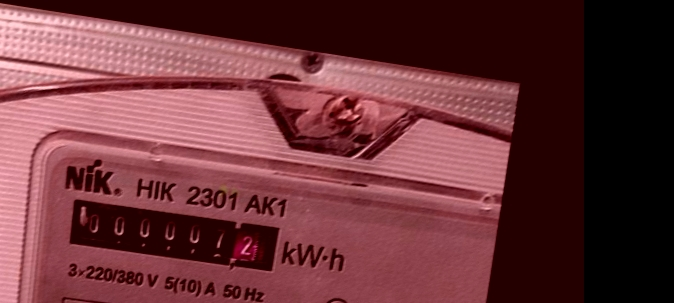0: (85, 211, 103, 237), (162, 219, 179, 244), (137, 217, 154, 241), (187, 222, 203, 247), (111, 215, 128, 238)
2: (239, 234, 255, 259)
7: (212, 226, 228, 252)
screen: (56, 186, 291, 286)
